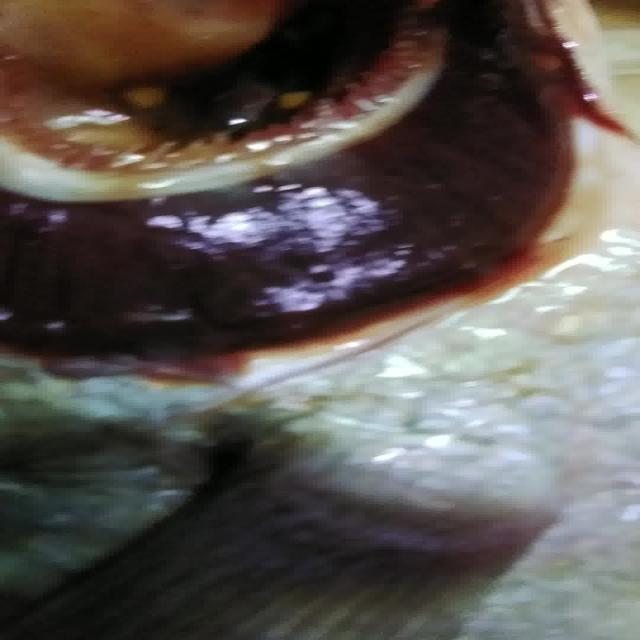Non-Fresh: (14, 21, 614, 386)
